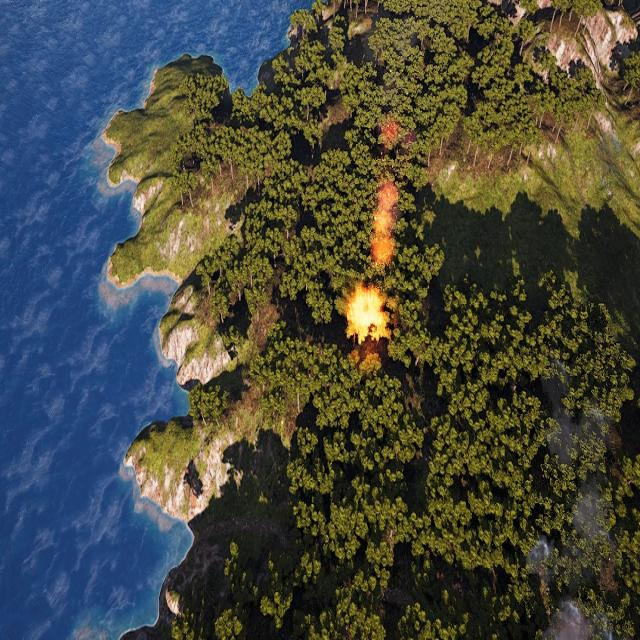fire: (344, 288, 388, 346)
smoke: (524, 378, 618, 640), (367, 181, 397, 269)
